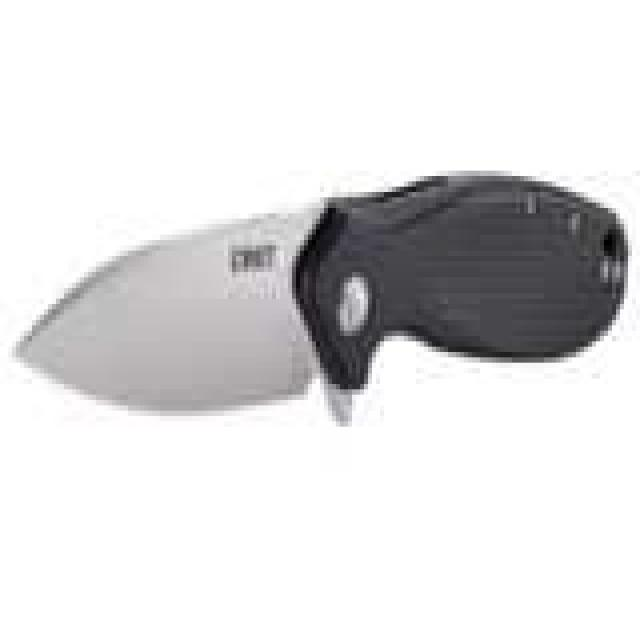weapon: (13, 174, 631, 437)
